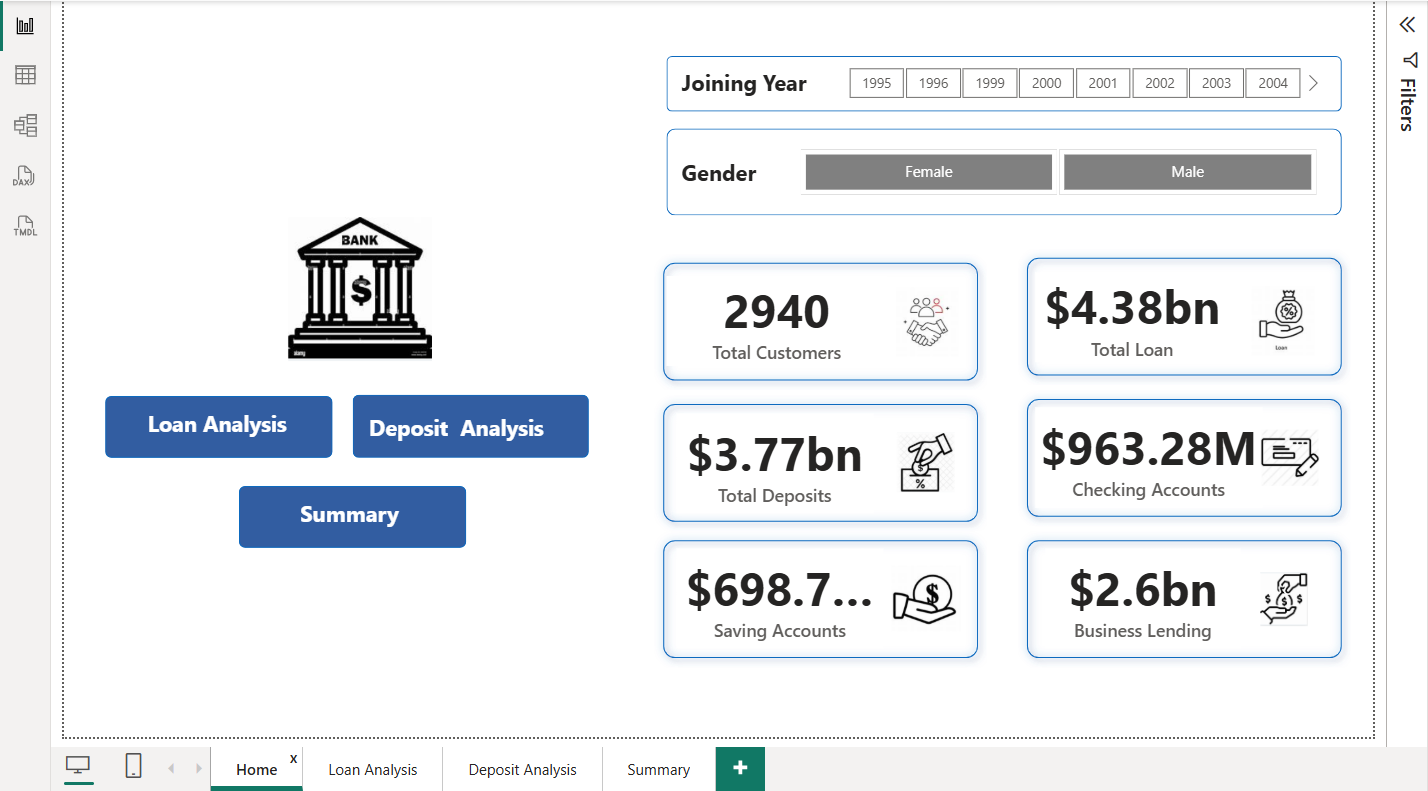

This screenshot's page, from the dashboard's own definition file:
{"tool":"powerbi","page":{"name":"Home","canvas":[1280,720],"ordinal":0},"visuals":[{"type":"shape","box":[40.7,386.4,222.2,60.5],"z":0},{"type":"textbox","box":[76.5,393.8,160.5,46.9],"z":1000},{"type":"shape","box":[171.6,474.1,222.2,60.5],"z":2000},{"type":"shape","box":[282.7,385.2,230.9,61.7],"z":3000},{"type":"textbox","box":[293.8,397.5,214.8,46.9],"z":4000},{"type":"textbox","box":[225.9,481.5,127.2,46.9],"z":5000},{"type":"shape","box":[577.8,246.9,325.9,133.3],"z":6000},{"type":"shape","box":[588.9,124.7,660.5,85.2],"z":7000},{"type":"shape","box":[588.9,54.3,660.5,54.3],"z":8000},{"type":"shape","box":[933.3,518.5,325.9,133.3],"z":9000},{"type":"shape","box":[577.8,518.5,325.9,133.3],"z":10000},{"type":"shape","box":[577.8,385.2,325.9,133.3],"z":11000},{"type":"shape","box":[933.3,380.2,325.9,133.3],"z":12000},{"type":"shape","box":[933.3,242,325.9,133.3],"z":13000},{"type":"card","fields":{"Values":["measures (2).total clients"]},"box":[588.9,269.1,216,87.7],"z":14000},{"type":"card","fields":{"Values":["Sum(banking_case customer.Saving Accounts)"]},"box":[598.8,535.8,202.5,97.5],"z":15000},{"type":"card","fields":{"Values":["measures (2).Total deposits"]},"box":[598.8,403.7,192.6,97.5],"z":16000},{"type":"card","fields":{"Values":["Sum(banking_case customer.Checking Accounts)"]},"box":[950.6,397.5,222.2,98.8],"z":17000},{"type":"card","fields":{"Values":["measures (2).total loan"]},"box":[950.6,265.4,190.1,87.7],"z":18000},{"type":"card","fields":{"Values":["Sum(banking_case customer.Business Lending)"]},"box":[960.5,535.8,191.4,97.5],"z":19000},{"type":"slicer","fields":{"Values":["banking_case customer.GenderId"]},"box":[695.1,138.3,554.3,58],"z":20000},{"type":"textbox","box":[598.8,148.1,96.3,44.4],"z":21000},{"type":"slicer","fields":{"Values":["banking_case customer.Year"]},"box":[742,59.3,491.4,43.2],"z":22000},{"type":"textbox","box":[598.8,60.5,143.2,42],"z":23000},{"type":"actionButton","box":[71.6,393.8,165.4,46.9],"z":24000},{"type":"actionButton","box":[293.8,385.2,207.4,60.5],"z":25000},{"type":"actionButton","box":[207.4,481.5,149.4,43.2],"z":26000},{"type":"image","box":[179,206.2,222.2,150.6],"z":27000},{"type":"image","box":[804.9,275.3,79,77.8],"z":28000},{"type":"image","box":[1151.9,274.1,81.5,77.8],"z":29000},{"type":"image","box":[801.2,417.3,82.7,72.8],"z":30000},{"type":"image","box":[1151.9,554.3,82.7,63],"z":32000},{"type":"image","box":[804.9,544.4,79,81.5],"z":34000},{"type":"image","box":[1160.5,412.3,74.1,69.1],"z":35000}]}

Visuals, with their boxes on the page's 1280x720 design canvas (x1, y1, x2, y2). These are canvas units, not pixel positions in the 1428x791 screenshot, which may show the page scaled, cropped or inside an application window:
shape: bbox=(41, 386, 263, 447)
textbox: bbox=(76, 394, 237, 441)
shape: bbox=(172, 474, 394, 535)
shape: bbox=(283, 385, 514, 447)
textbox: bbox=(294, 398, 509, 444)
textbox: bbox=(226, 482, 353, 528)
shape: bbox=(578, 247, 904, 380)
shape: bbox=(589, 125, 1249, 210)
shape: bbox=(589, 54, 1249, 109)
shape: bbox=(933, 518, 1259, 652)
shape: bbox=(578, 518, 904, 652)
shape: bbox=(578, 385, 904, 518)
shape: bbox=(933, 380, 1259, 514)
shape: bbox=(933, 242, 1259, 375)
card - measures (2).total clients: bbox=(589, 269, 805, 357)
card - Sum(banking_case customer.Saving Accounts): bbox=(599, 536, 801, 633)
card - measures (2).Total deposits: bbox=(599, 404, 791, 501)
card - Sum(banking_case customer.Checking Accounts): bbox=(951, 398, 1173, 496)
card - measures (2).total loan: bbox=(951, 265, 1141, 353)
card - Sum(banking_case customer.Business Lending): bbox=(960, 536, 1152, 633)
slicer - banking_case customer.GenderId: bbox=(695, 138, 1249, 196)
textbox: bbox=(599, 148, 695, 192)
slicer - banking_case customer.Year: bbox=(742, 59, 1233, 102)
textbox: bbox=(599, 60, 742, 102)
actionButton: bbox=(72, 394, 237, 441)
actionButton: bbox=(294, 385, 501, 446)
actionButton: bbox=(207, 482, 357, 525)
image: bbox=(179, 206, 401, 357)
image: bbox=(805, 275, 884, 353)
image: bbox=(1152, 274, 1233, 352)
image: bbox=(801, 417, 884, 490)
image: bbox=(1152, 554, 1235, 617)
image: bbox=(805, 544, 884, 626)
image: bbox=(1160, 412, 1235, 481)
